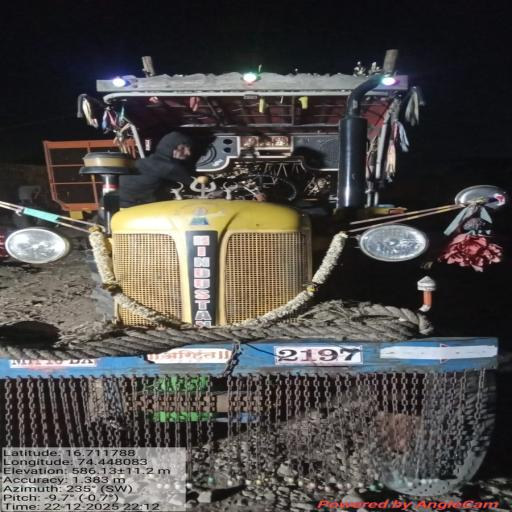number_plate: (10, 348, 383, 372)
